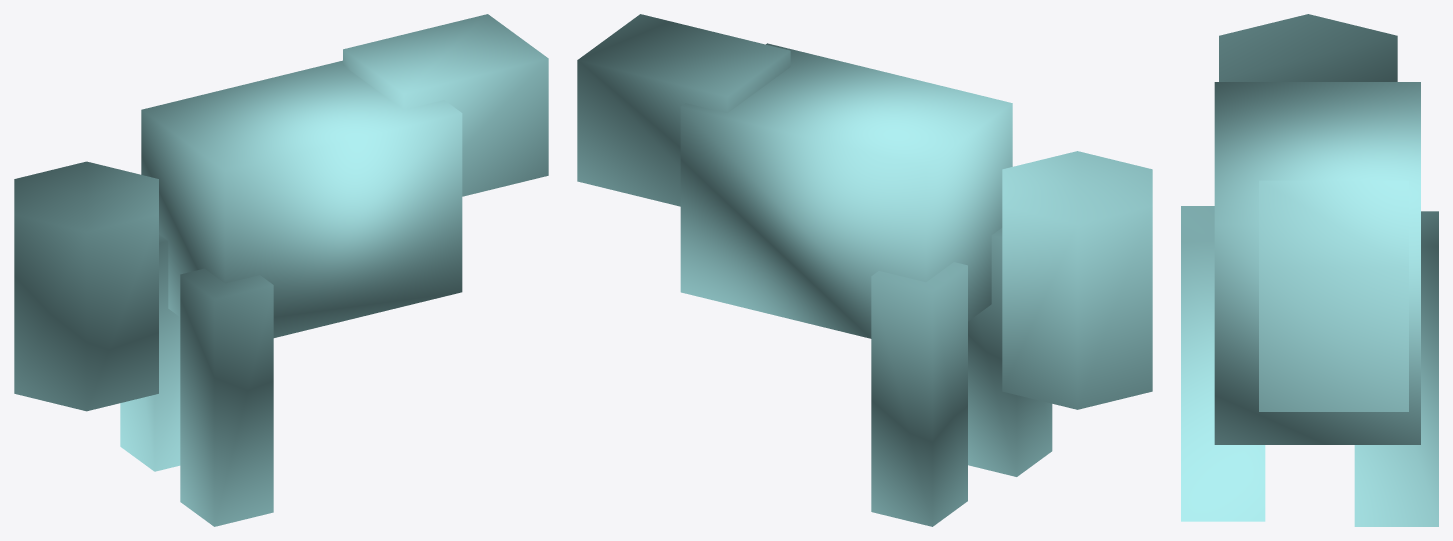
The model's file is ps2_jrpg_corrupted_ruin_fiend_enemy.obj.
The picture shows the model from 3 angles, left to right: view 1: azimuth 30°, elevation 25°; view 2: azimuth 150°, elevation 25°; view 3: azimuth 270°, elevation 25°; orthographic projection. The views are drawn at different scales.
Size of the model in its own units: 1.56 by 1.03 by 0.5509.
